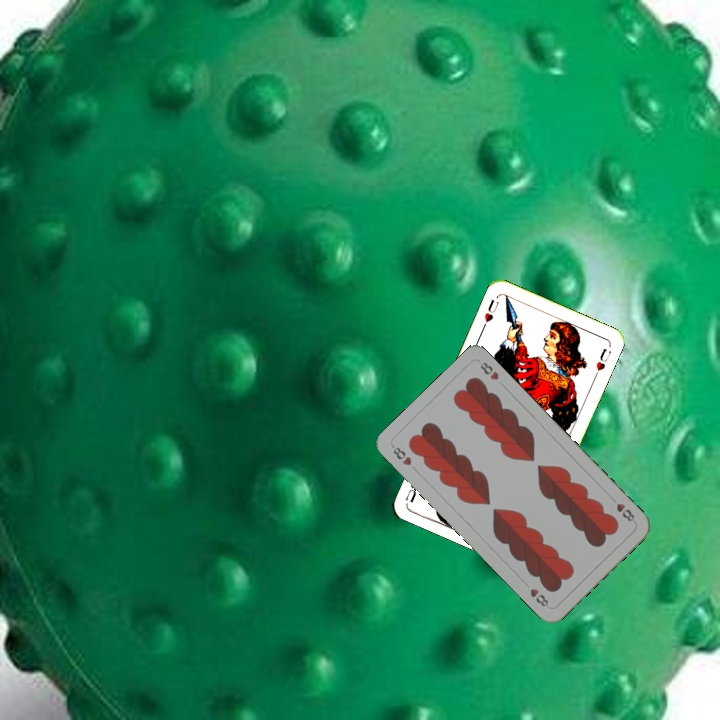H8: (606, 493, 637, 524), (388, 442, 414, 468)
HU: (478, 295, 501, 331)
